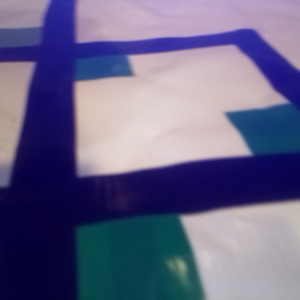bottom_right: (11, 178, 204, 299), (39, 43, 133, 81)
top_left: (226, 103, 300, 199), (1, 27, 73, 61)
